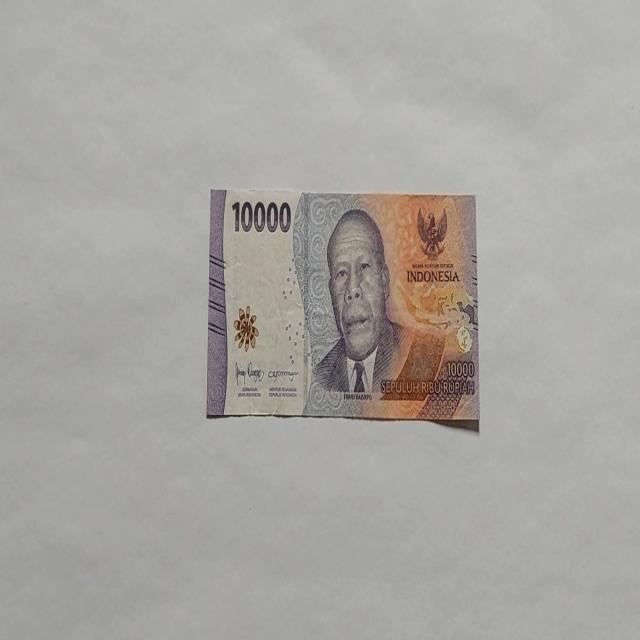sepuluh ribu rupiah: (206, 187, 480, 425)
